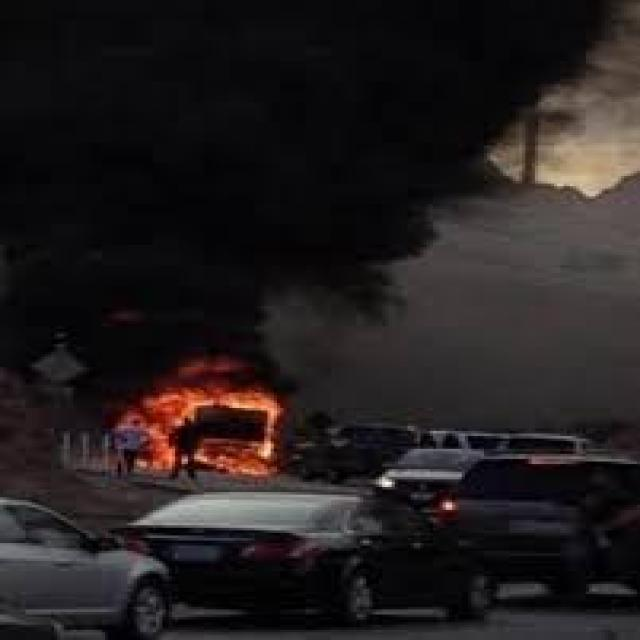fire: (68, 332, 335, 489)
smoke: (5, 5, 478, 310)
